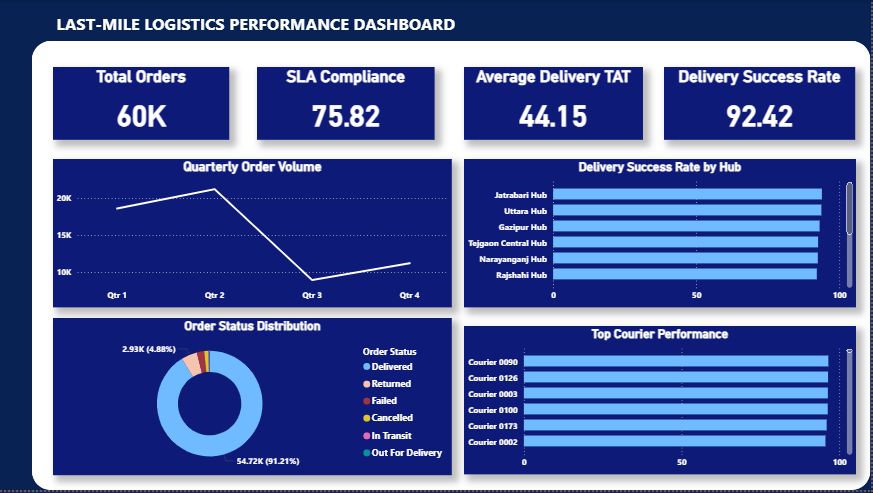

Layout of this report page (visuals, bound fields, positions):
{"tool":"powerbi","page":{"name":"Page 1","canvas":[1280,720],"ordinal":0},"visuals":[{"type":"shape","box":[48.3,60.8,1231.7,659.7],"z":0},{"type":"card","title":"Total Orders","fields":{"Values":["Sum(analytics daily_kpi.total_orders)"]},"box":[78.7,98.3,259.2,107.3],"z":1},{"type":"card","title":"SLA Compliance","fields":{"Values":["Avg(analytics daily_kpi.sla_compliance_pct)"]},"box":[379,98.3,261,107.3],"z":2},{"type":"card","title":"Average Delivery TAT","fields":{"Values":["Avg(analytics daily_kpi.average_delivery_tat_hours)"]},"box":[682.9,98.3,262.8,107.3],"z":3},{"type":"card","title":"Delivery Success Rate","fields":{"Values":["Avg(analytics daily_kpi.delivery_success_rate_pct)"]},"box":[977.9,98.3,280.7,107.3],"z":4},{"type":"lineChart","title":"Quarterly Order Volume","fields":{"Y":["Sum(analytics daily_kpi.total_orders)"],"Category":["analytics daily_kpi.order_date.Variation.Date Hierarchy.Quarter"]},"box":[78.7,234.2,586.4,218.1],"z":5},{"type":"clusteredBarChart","title":"Delivery Success Rate by Hub","fields":{"Category":["analytics hub_performance.destination_hub_name"],"Y":["Avg(analytics hub_performance.delivery_success_rate_pct)"]},"box":[682.9,234.2,575.6,218.1],"z":6},{"type":"clusteredBarChart","title":"Top Courier Performance","fields":{"Category":["analytics courier_performance.courier_name"],"Y":["Sum(analytics courier_performance.delivery_success_rate_pct)"]},"box":[682.9,479.1,575.6,218.1],"z":7},{"type":"donutChart","title":"Order Status Distribution","fields":{"Category":["analytics order_mart.final_status"],"Y":["Count(analytics order_mart.order_id)"]},"box":[78.7,466.6,586.4,230.6],"z":8},{"type":"textbox","box":[78.7,12.5,641.8,48.3],"z":9}]}

Visuals, with their boxes in screenshot pixels (x1, y1, x2, y2), scaled from the page's 1280x720 canvas onto the 873x493 screenshot:
shape: (left=33, top=42, right=872, bottom=492)
"Total Orders" card: (left=54, top=67, right=230, bottom=141)
"SLA Compliance" card: (left=258, top=67, right=436, bottom=141)
"Average Delivery TAT" card: (left=466, top=67, right=645, bottom=141)
"Delivery Success Rate" card: (left=667, top=67, right=858, bottom=141)
"Quarterly Order Volume" lineChart: (left=54, top=160, right=454, bottom=310)
"Delivery Success Rate by Hub" clusteredBarChart: (left=466, top=160, right=858, bottom=310)
"Top Courier Performance" clusteredBarChart: (left=466, top=328, right=858, bottom=477)
"Order Status Distribution" donutChart: (left=54, top=319, right=454, bottom=477)
textbox: (left=54, top=9, right=491, bottom=42)
